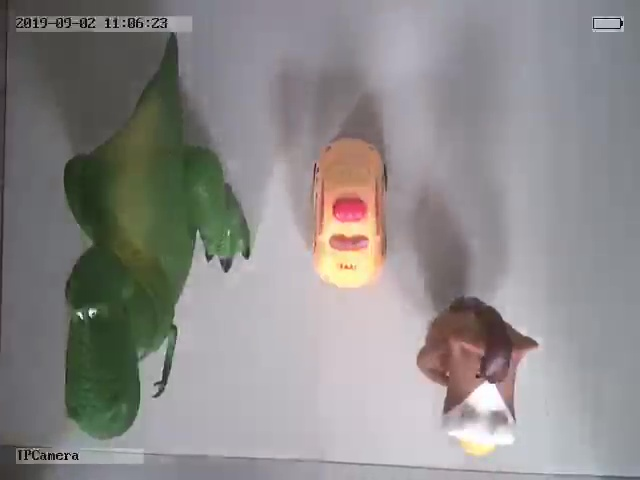car: (310, 135, 388, 287)
horse: (416, 295, 541, 459)
rex: (61, 38, 253, 442)
